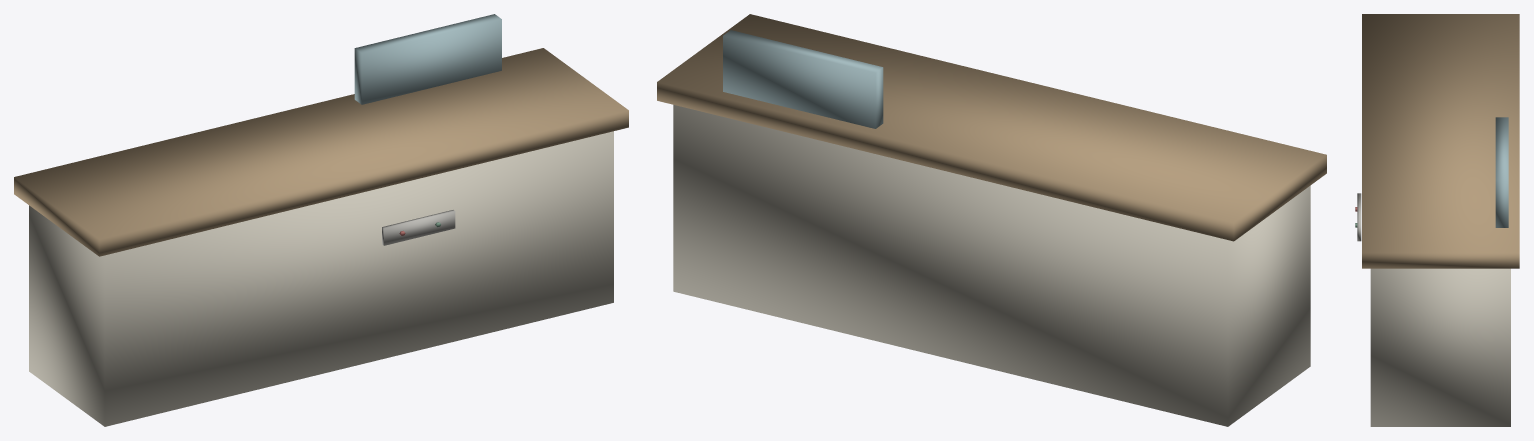
The model's file is pharmacy_pickup_counter__wide.glb.
The picture shows the model from 3 angles, left to right: view 1: azimuth 30°, elevation 25°; view 2: azimuth 150°, elevation 25°; view 3: azimuth 270°, elevation 25°; orthographic projection. The views are drawn at different scales.
Parts seen in each view (by area): view 1: world; view 2: world; view 3: world.
Boxes of the visible parts, <box> form: world: <box>14,14,628,426</box>; world: <box>657,14,1326,426</box>; world: <box>1355,14,1519,426</box>.
Size of the model in its own units: 2.58 by 1.14 by 0.751.
